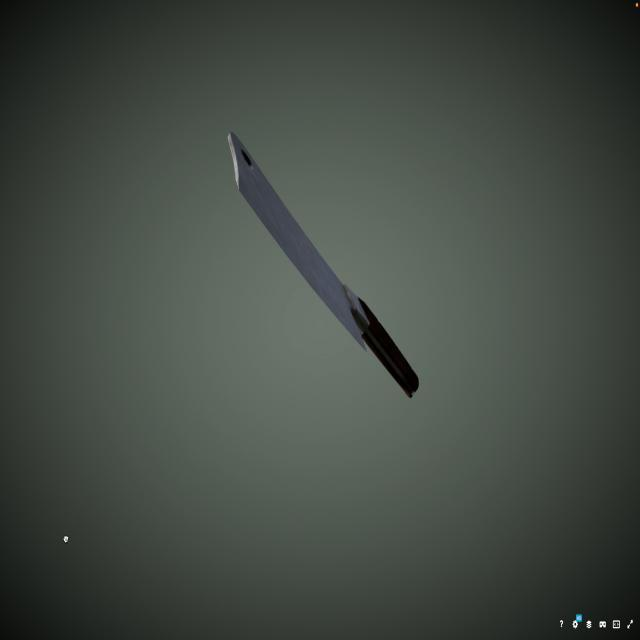cleaver: (225, 120, 422, 398)
